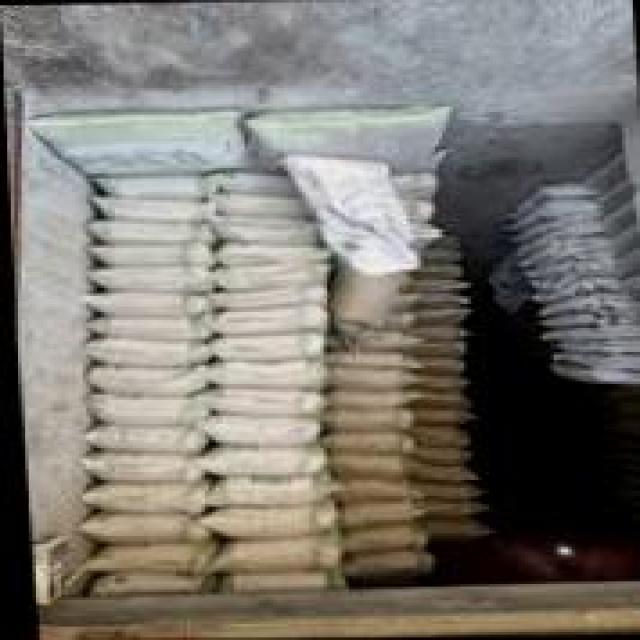gunny_bag: (32, 114, 240, 174), (210, 535, 322, 572), (210, 326, 316, 359), (78, 511, 191, 541), (204, 445, 314, 475), (79, 544, 186, 573), (91, 390, 194, 420), (90, 450, 191, 478), (216, 213, 318, 240), (508, 196, 582, 233), (209, 415, 303, 443), (210, 475, 309, 501), (85, 484, 191, 508), (207, 505, 301, 532), (218, 355, 307, 383), (92, 365, 188, 390), (217, 262, 312, 287), (91, 237, 191, 260), (93, 336, 193, 359), (93, 265, 192, 287), (323, 450, 403, 477), (538, 290, 621, 316), (209, 386, 305, 408), (85, 425, 190, 445), (317, 431, 400, 455), (91, 314, 190, 334), (91, 293, 189, 313), (341, 500, 410, 528), (97, 217, 197, 236), (100, 197, 199, 216), (546, 363, 639, 383), (328, 365, 403, 389), (341, 528, 415, 552), (325, 406, 400, 428), (108, 175, 205, 192), (335, 348, 404, 368), (554, 338, 638, 354), (425, 518, 477, 541), (418, 496, 475, 516), (605, 220, 640, 252), (415, 424, 459, 448), (602, 196, 633, 230), (419, 465, 470, 482), (611, 245, 640, 272), (419, 407, 462, 424), (619, 270, 640, 294)
